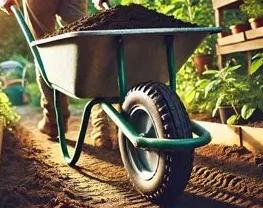BROUETTE: (8, 3, 224, 203)
